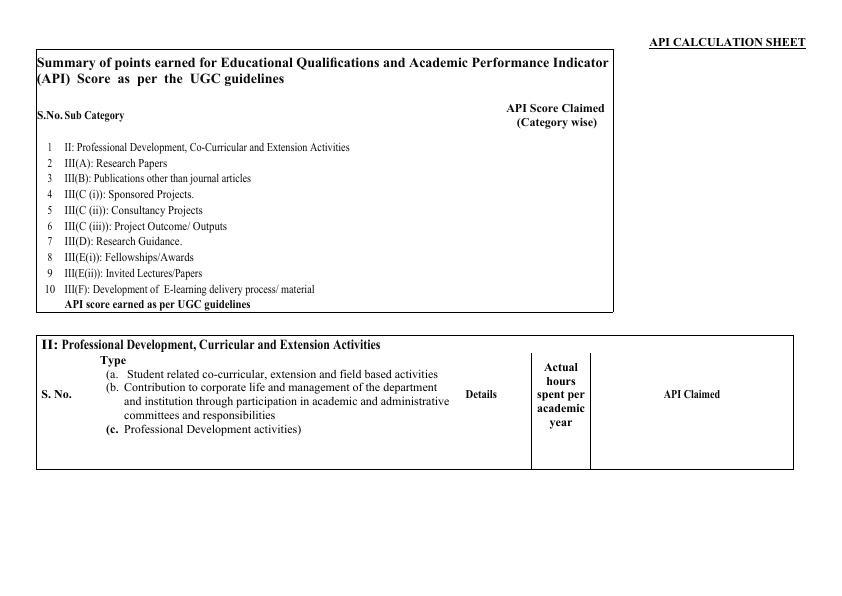table: (30, 45, 624, 319), (29, 331, 804, 482)
text: (644, 33, 814, 59)
